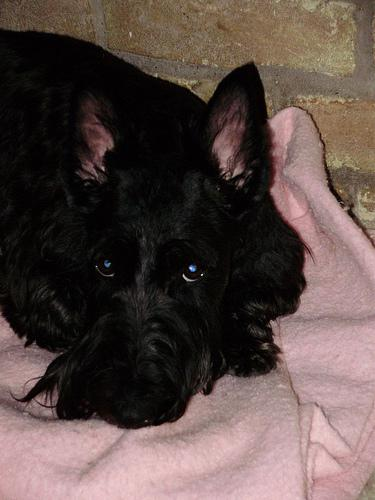dog-scottish_terrier: (67, 60, 267, 428)
